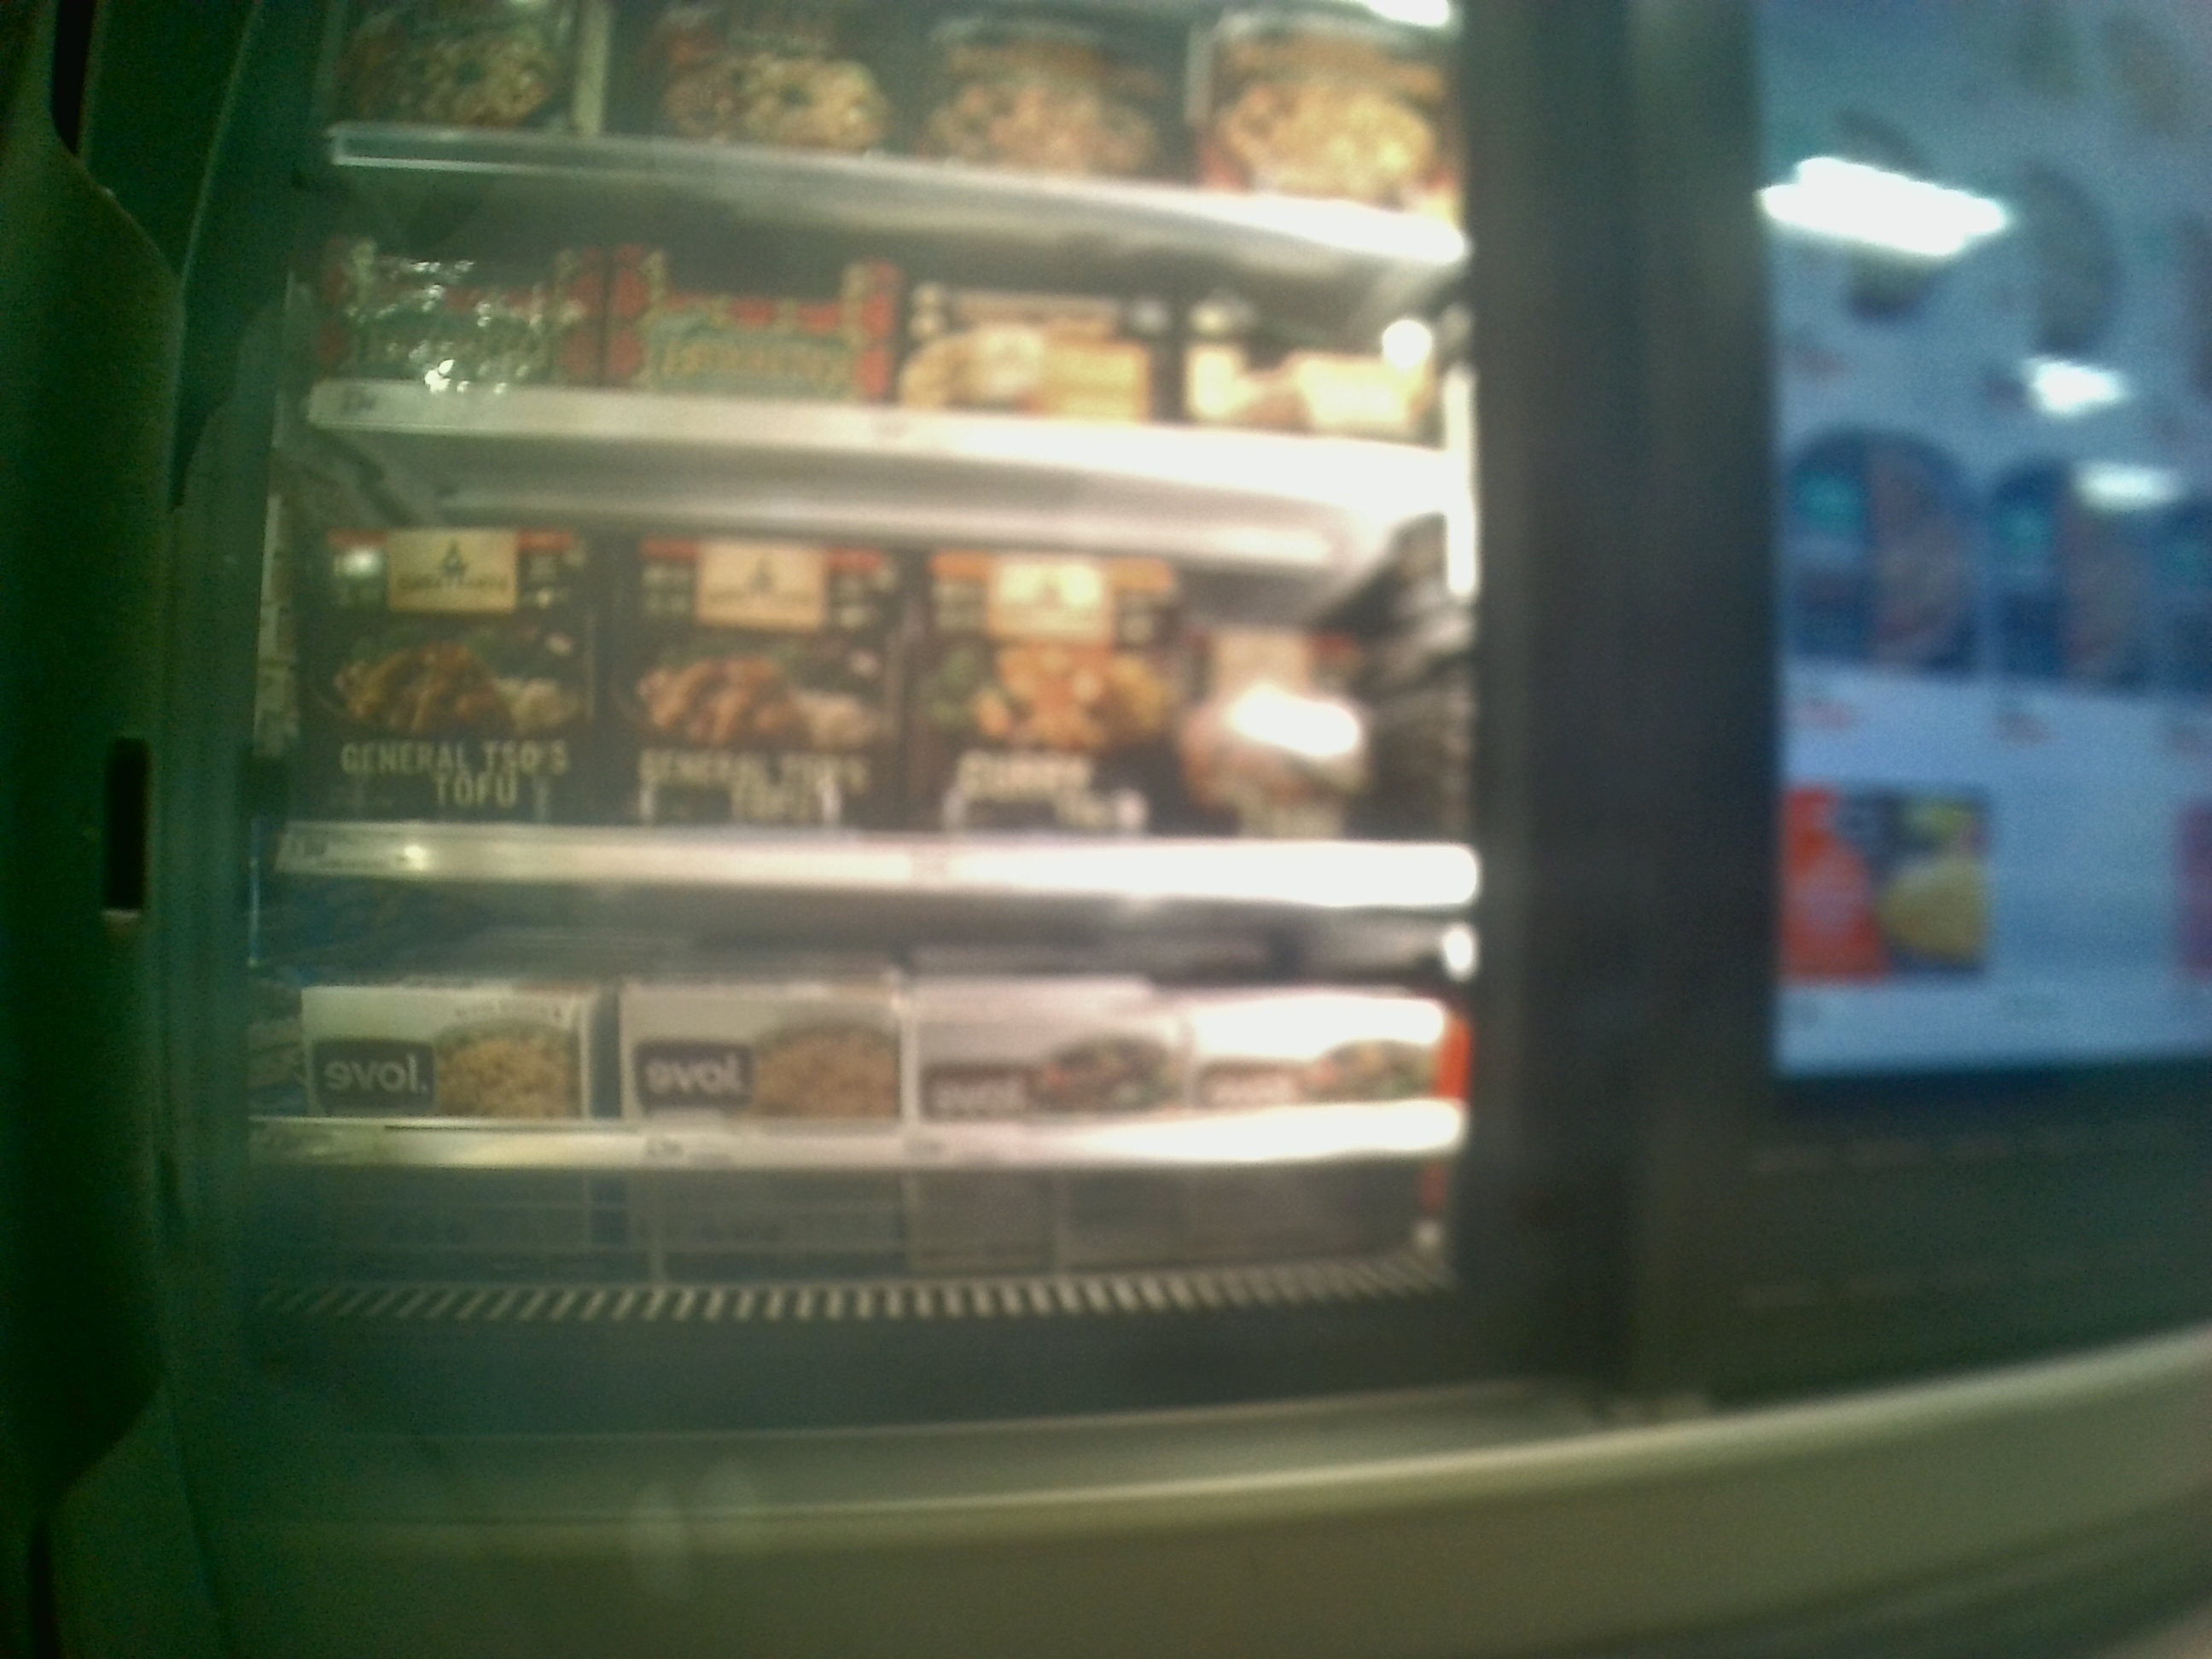frozen-food-shelf: (254, 502, 1493, 904), (235, 908, 1498, 1168)
